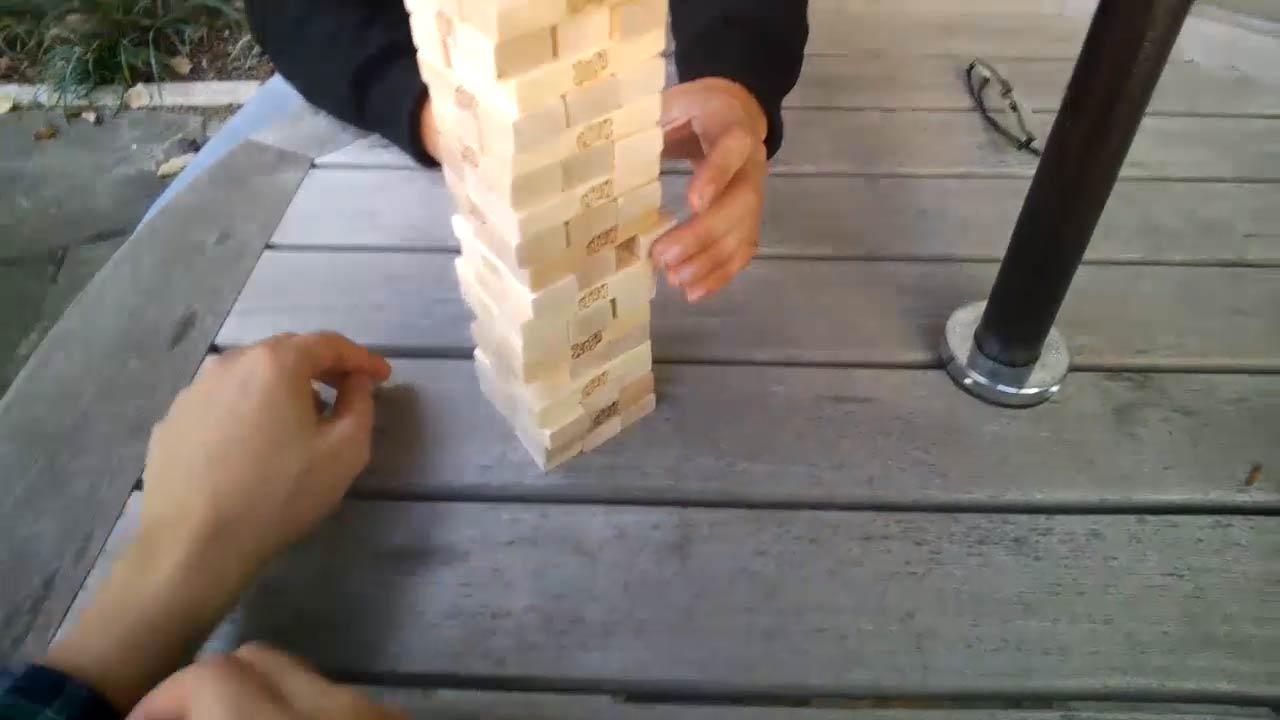hand: (132, 327, 389, 554), (644, 74, 771, 312), (118, 656, 400, 720)
